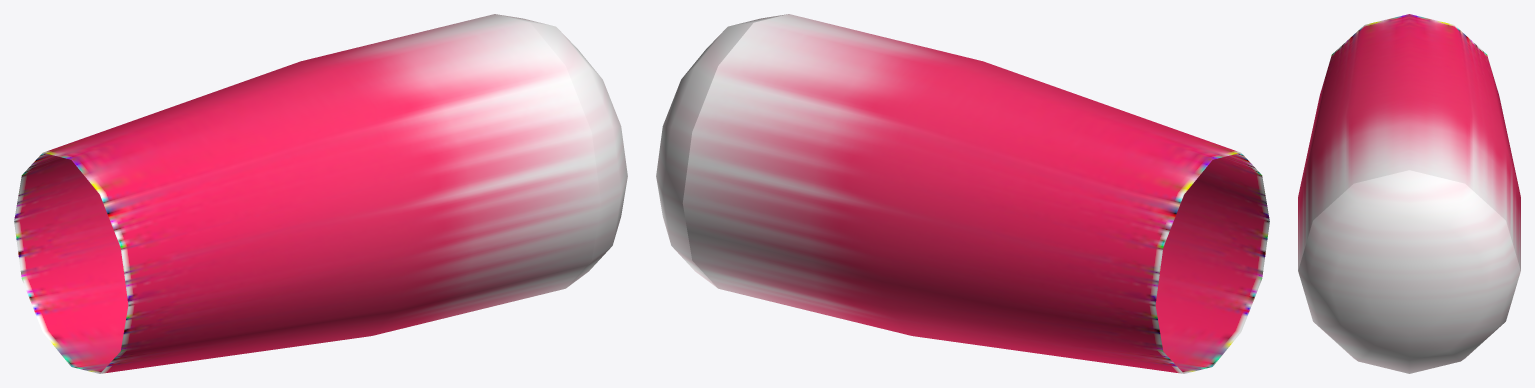
The model's file is BunnyBullet.FBX.
3 renders of one model, left to right at view 1: azimuth 30°, elevation 25°; view 2: azimuth 150°, elevation 25°; view 3: azimuth 270°, elevation 25°, orthographic. The views are drawn at different scales.
Parts seen in each view (by area): view 1: Bullet; view 2: Bullet; view 3: Bullet.
Boxes of the visible parts, box(x1,y1,x2,y2) form: Bullet: box(14, 14, 627, 373); Bullet: box(656, 14, 1269, 373); Bullet: box(1298, 14, 1520, 373).
Bounding box in the file's own units: 57.94 × 27.06 × 27.06.
Materials: 1 (1 with a texture image).
